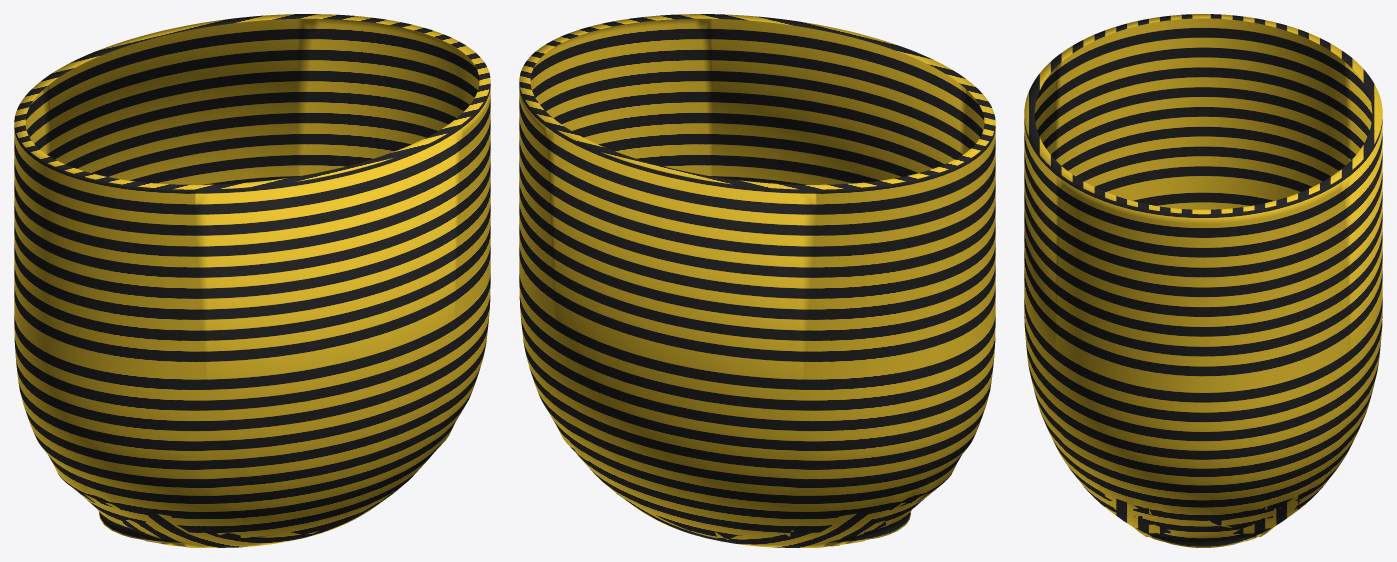
The model's file is swimsuit3.fbx.
3 renders of one model, left to right at view 1: azimuth 30°, elevation 25°; view 2: azimuth 150°, elevation 25°; view 3: azimuth 270°, elevation 25°, orthographic. The views are drawn at different scales.
Visible parts, largest first — view 1: swimsuit3; view 2: swimsuit3; view 3: swimsuit3.
Boxes of the visible parts, x1,y1,x2,y2 form: swimsuit3: [14, 14, 490, 547]; swimsuit3: [519, 14, 995, 547]; swimsuit3: [1024, 14, 1382, 547].
Bounding box in the file's own units: 0.8145 × 0.7112 × 0.6163.
1 material, 1 textured.
